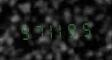five: (83, 18, 95, 37)
nine: (17, 22, 29, 41), (70, 19, 82, 38)
one: (57, 19, 69, 39), (44, 20, 56, 39)
seven: (30, 21, 42, 40)
